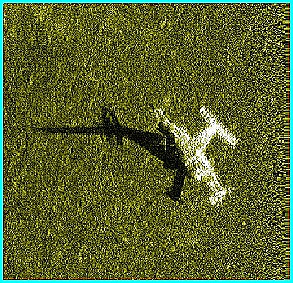aircraft: (146, 103, 240, 208)
